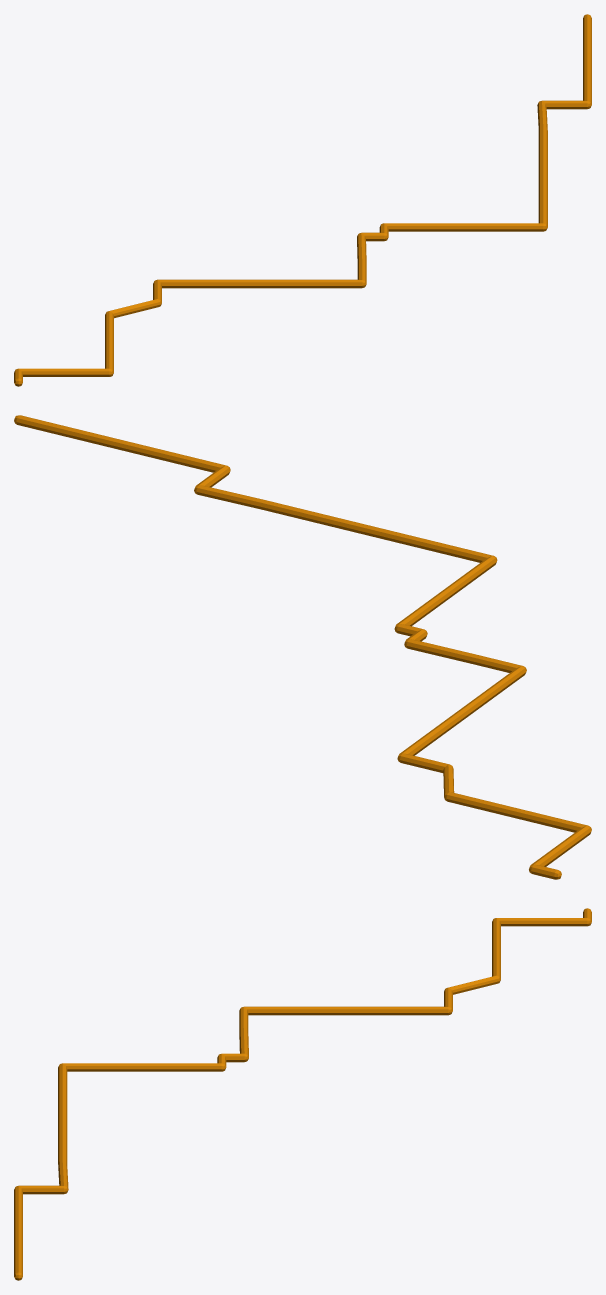
3 renders of one model, top to bottom at view 1: azimuth 90°, elevation 25°; view 2: azimuth 150°, elevation 25°; view 3: azimuth 270°, elevation 25°, orthographic. The views are drawn at different scales.
Bounding box in the file's own units: 1914 × 20 × 1271.
